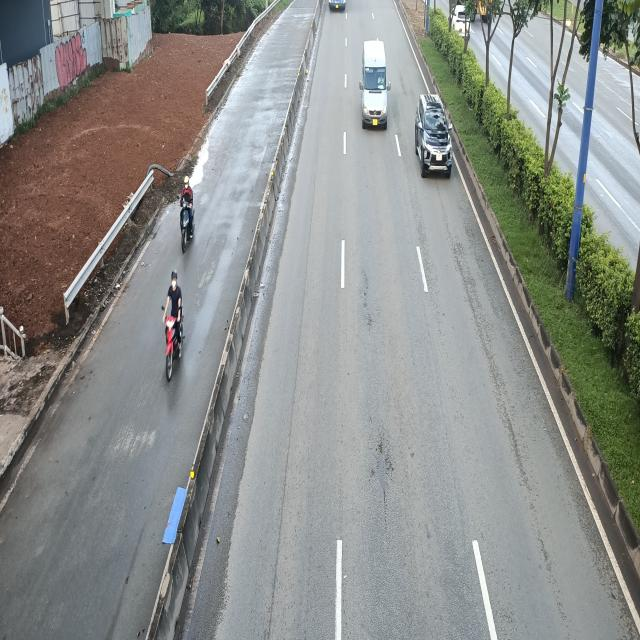car: (414, 96, 452, 181)
van: (358, 40, 390, 128)
